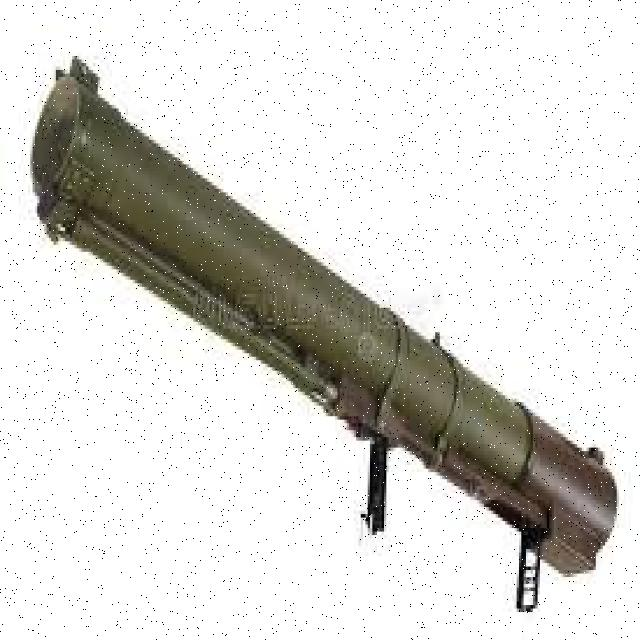bazooka: (24, 41, 623, 624)
